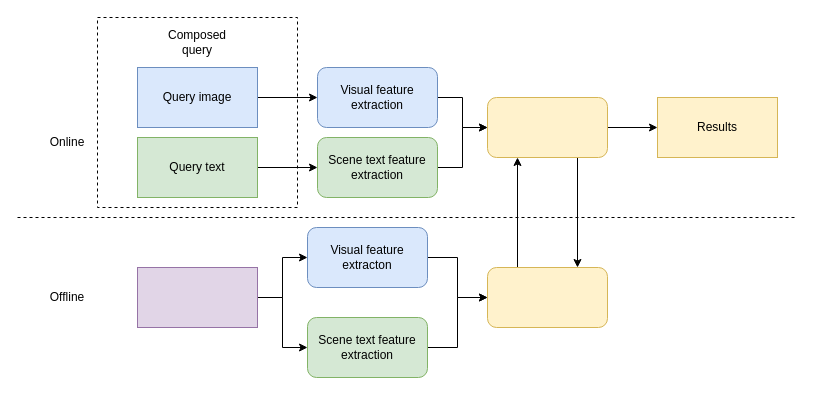
Image size: 816x395. Some labels were removed from this diagram. The centre of each missing label's shape, as x and y in pixels:
"Database" belongs at (x=197, y=297).
"Database indexing" belongs at (x=547, y=297).
"Searching and scoring" belongs at (x=547, y=127).
